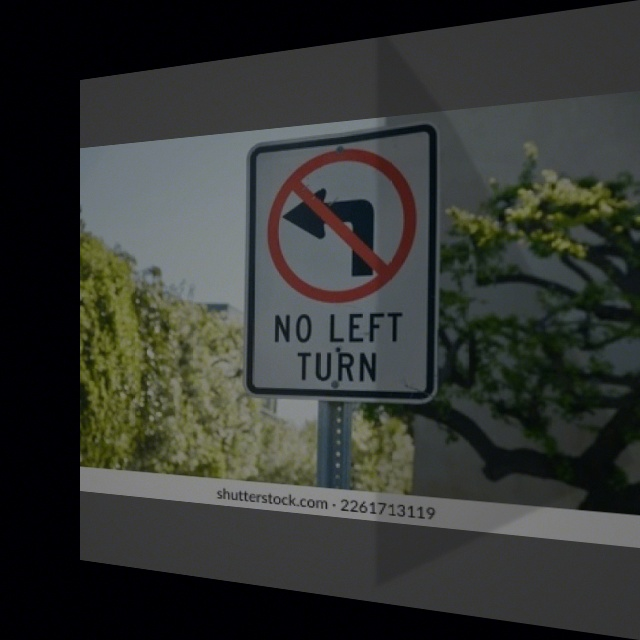Left_Turn_Prohibited: (261, 140, 421, 308)
